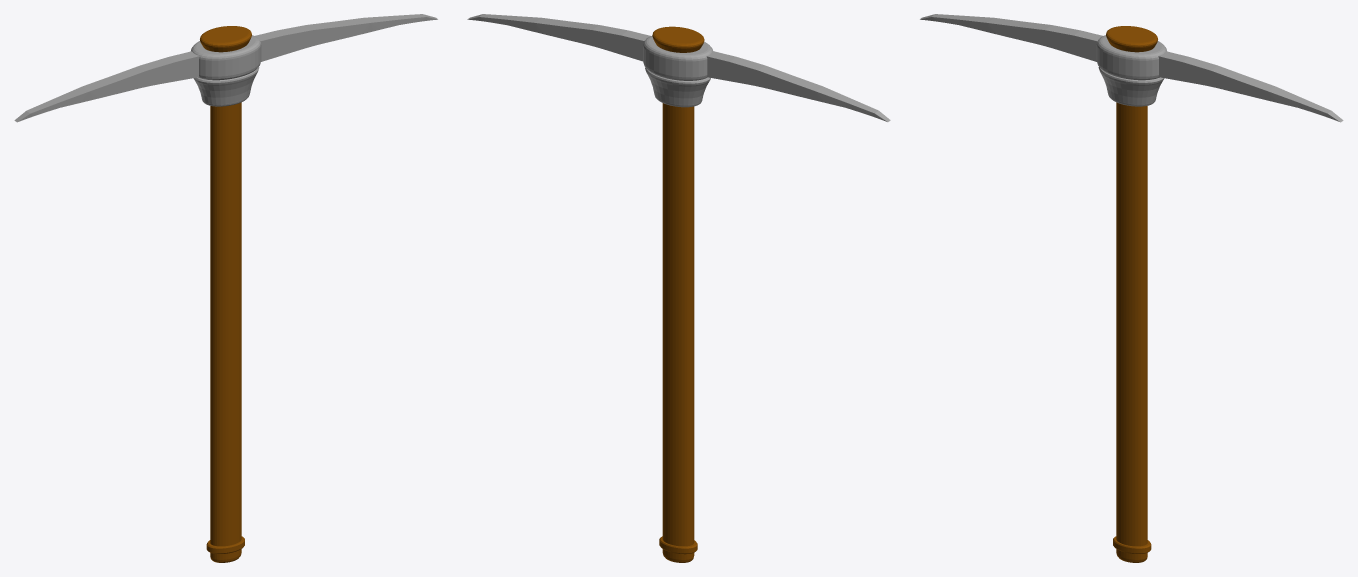
File: ASSETS.fbx_pickaxe.fbx
3 renders of one model, left to right at view 1: azimuth 30°, elevation 25°; view 2: azimuth 150°, elevation 25°; view 3: azimuth 330°, elevation 25°, orthographic.
Parts seen in each view (by area): view 1: pioche; view 2: pioche; view 3: pioche.
Part boxes in pixels (x1,y1,x2,y2): pioche: (14, 14, 437, 562); pioche: (467, 14, 890, 562); pioche: (920, 14, 1343, 562).
Bounding box in the file's own units: 40.01 × 47.54 × 4.26.
